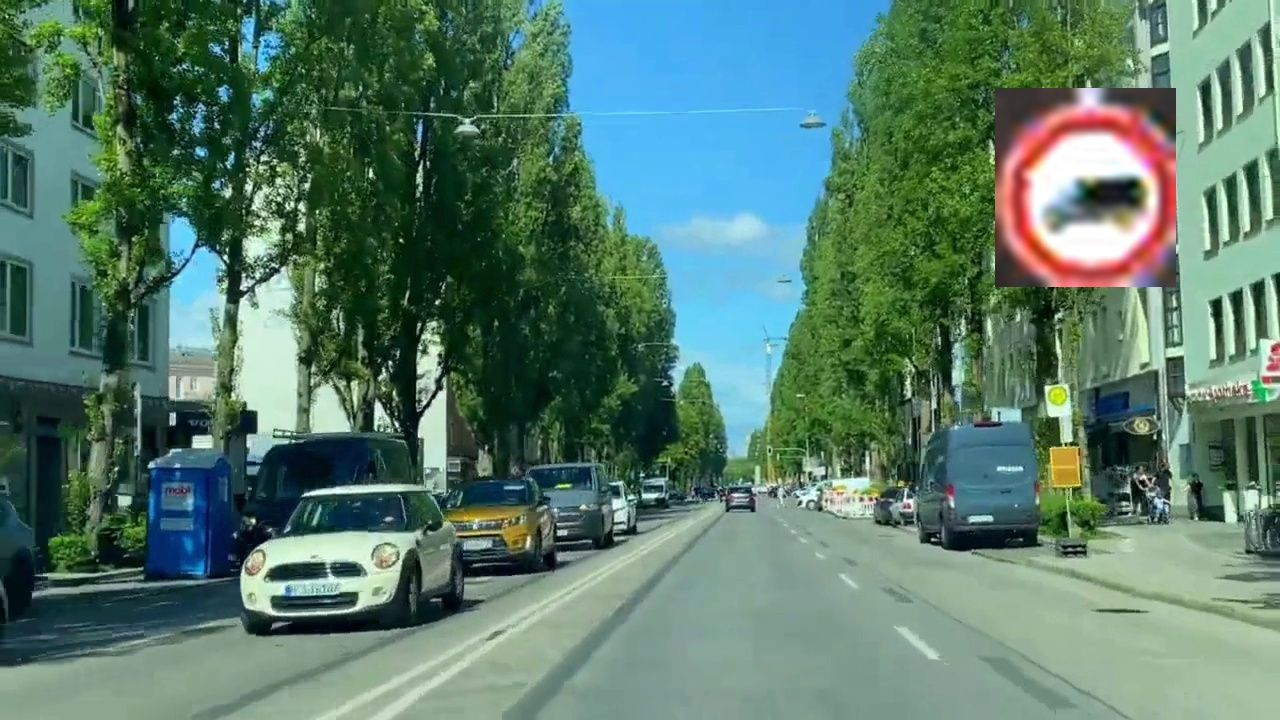Veh >3.5t prohib: (995, 88, 1176, 287)
